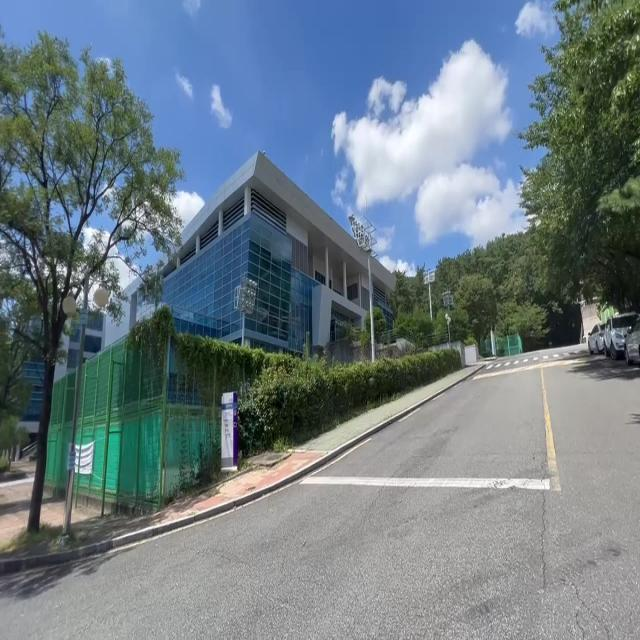building: (204, 152, 383, 342)
